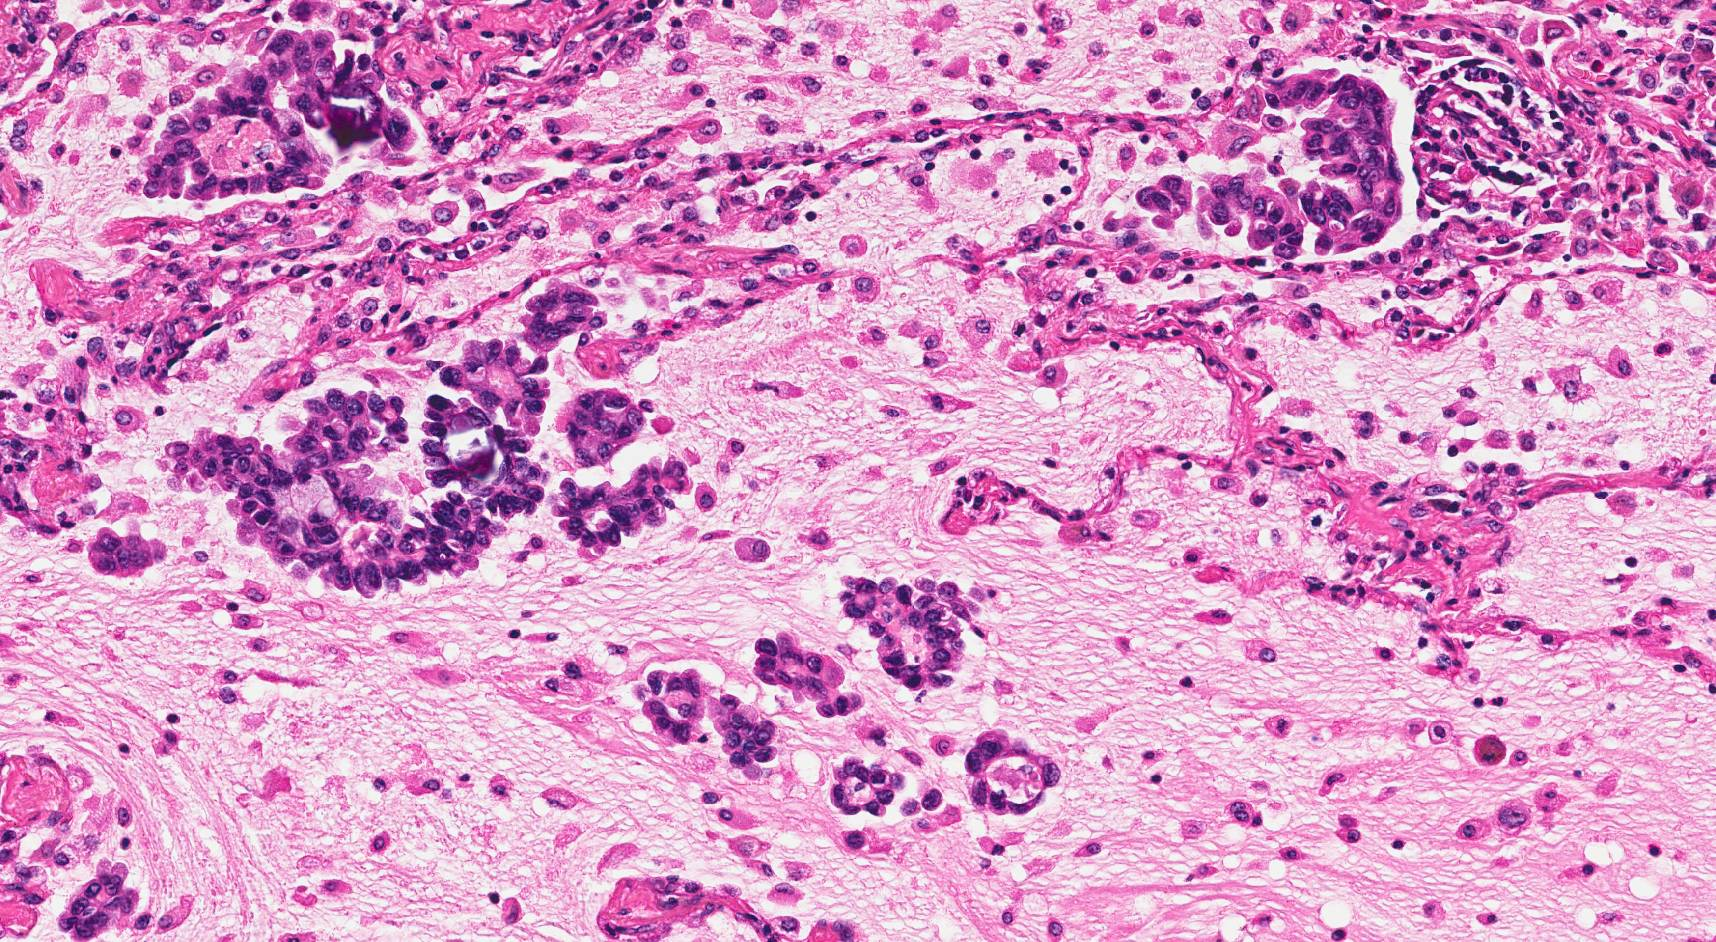stas: (168, 381, 509, 602), (1129, 63, 1412, 258), (139, 26, 423, 202), (420, 338, 554, 527), (839, 572, 998, 691), (634, 671, 782, 772), (551, 458, 700, 554), (751, 631, 867, 716), (962, 729, 1060, 818), (555, 387, 665, 465), (55, 857, 152, 942), (519, 278, 618, 356), (828, 752, 906, 821), (86, 523, 169, 579)
